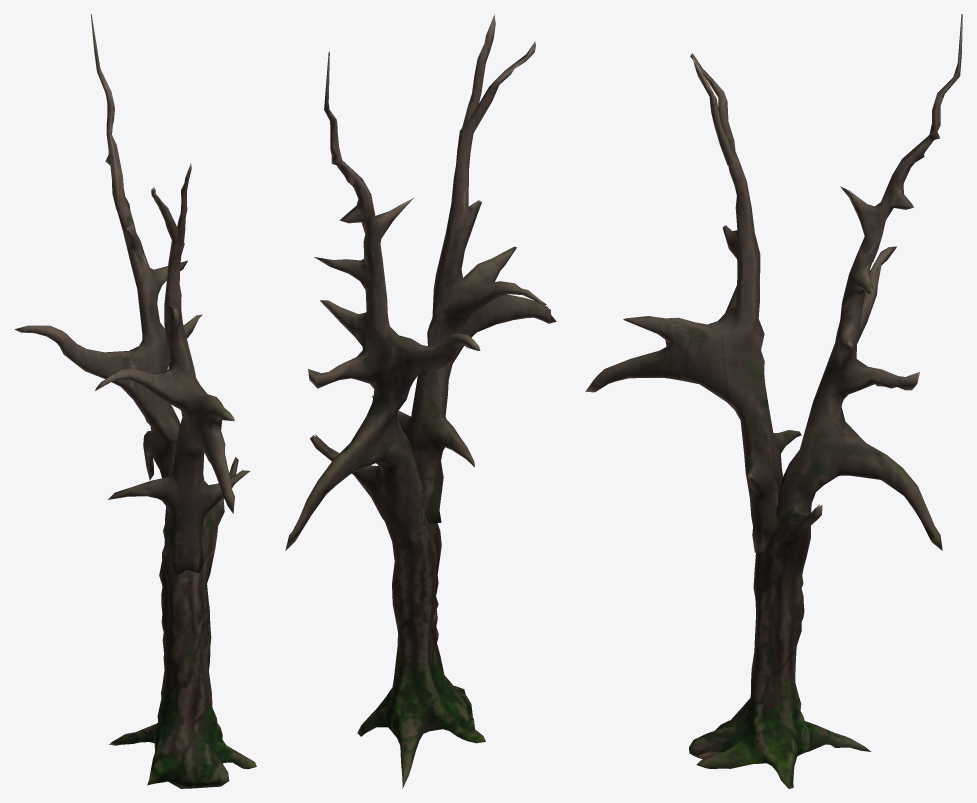
Rendered from Tree_Root_V2.fbx.
3 renders of one model, left to right at view 1: azimuth 30°, elevation 25°; view 2: azimuth 150°, elevation 25°; view 3: azimuth 270°, elevation 25°, orthographic. The views are drawn at different scales.
Parts seen in each view (by area): view 1: Tree_V2_LOD0; view 2: Tree_V2_LOD0; view 3: Tree_V2_LOD0.
Boxes of the visible parts, x1,y1,x2,y2 form: Tree_V2_LOD0: [14, 14, 256, 788]; Tree_V2_LOD0: [285, 14, 556, 788]; Tree_V2_LOD0: [585, 14, 962, 788].
Size of what is drawn, in the model's own units: 456 by 1596 by 727.
